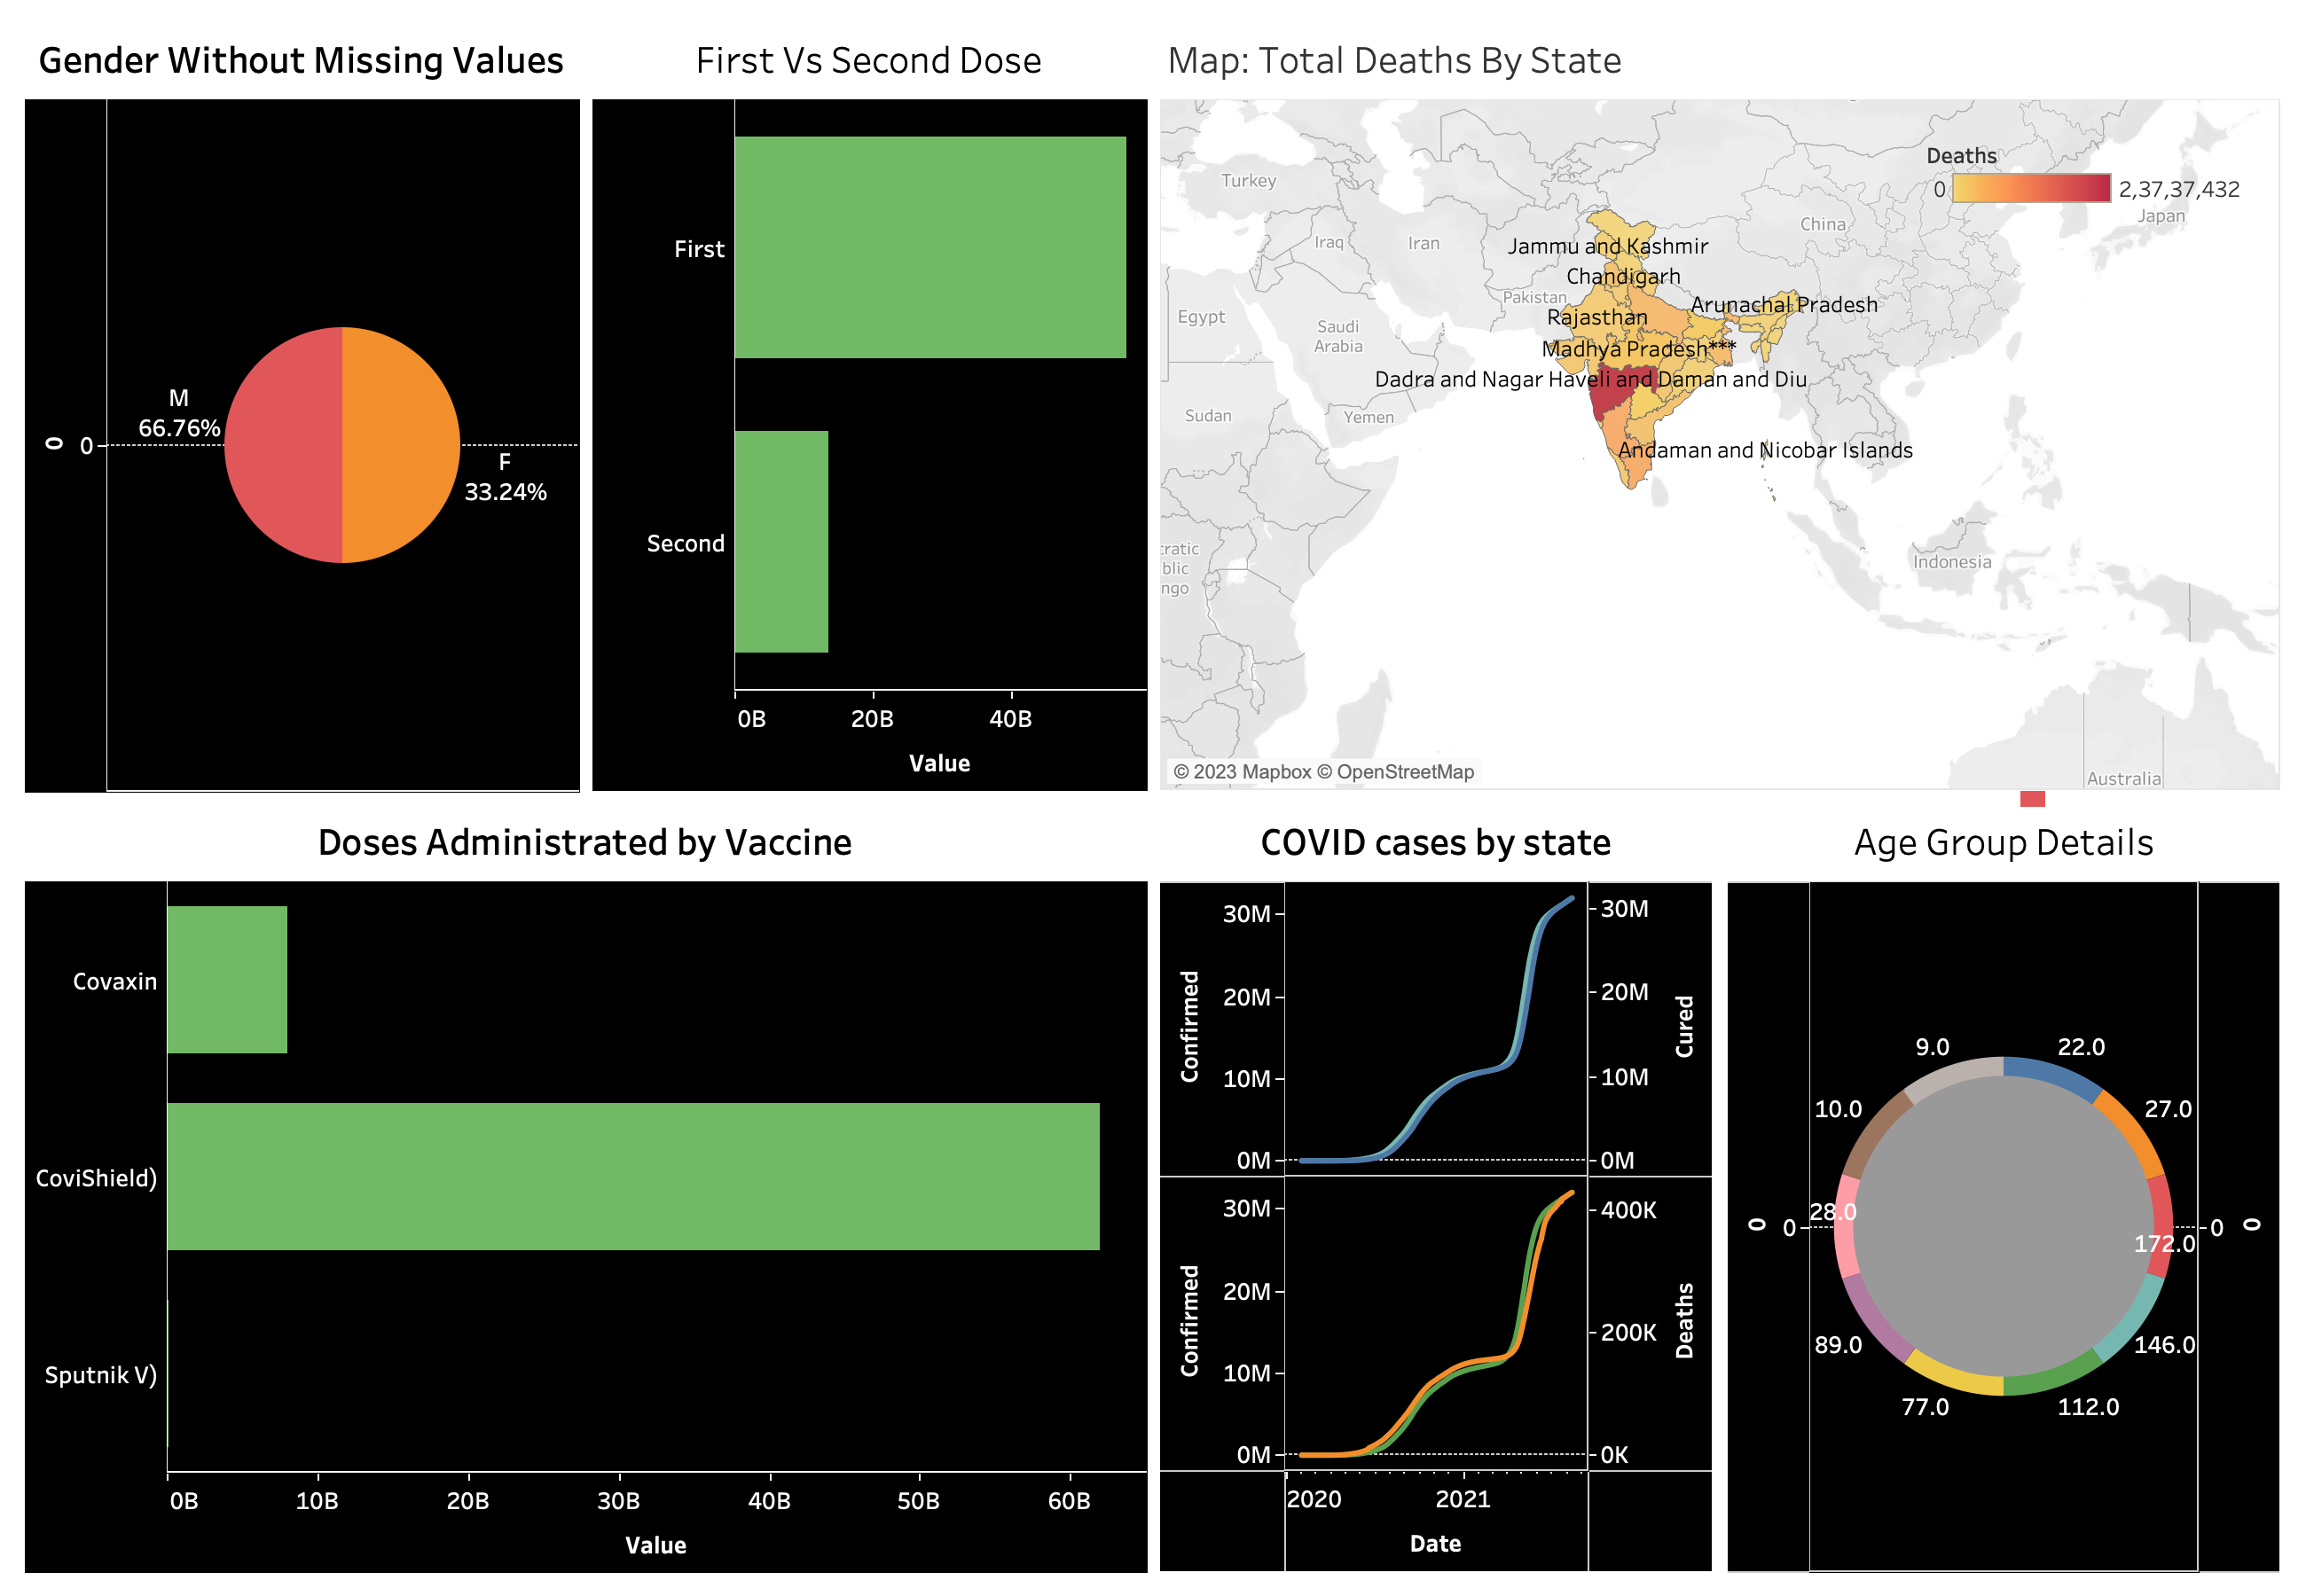

The dashboard page shown, as its layout file describes it:
{"tool":"tableau","page":{"name":"Dashboard 1","canvas":[1300,900],"ordinal":0},"visuals":[{"type":"filter","title":"COVID cases by state","param":"[federated.1y2sy4d1beabyy1cqnm6b1rsiau7].[none:State/UnionTerritory:nk]","box":[1132,8,160,53]},{"type":"worksheet","title":"Gender Without Missing Values","mark":"Pie","rows":["Calculation_780811629521625093"],"box":[10.4,9,319.8,441]},{"type":"worksheet","title":"First Vs Second Dose","mark":"Automatic","box":[330.2,9,319.8,441]},{"type":"worksheet","title":"Map: Total Deaths By State","mark":"Automatic","box":[650,9,639.6,441]},{"type":"legend","title":"COVID cases by state","param":"[federated.1y2sy4d1beabyy1cqnm6b1rsiau7].[:Measure Names]","box":[1132,61,160,88]},{"type":"legend","title":"Map: Total Deaths By State","param":"[federated.1y2sy4d1beabyy1cqnm6b1rsiau7].[sum:Deaths:qk]","box":[1085.5,75.4,182,85.5]},{"type":"legend","title":"Age Group Details","param":"[federated.1313end162e7n11a5pa2611sy8po].[none:AgeGroup:nk]","box":[1132,149,160,227]},{"type":"legend","title":"Gender Without Missing Values","param":"[federated.01ducnc0gvyhw5183lvd70ag3g81].[none:gender:nk]","box":[1132,376,160,67]},{"type":"worksheet","title":"Doses Administrated by Vaccine","mark":"Automatic","box":[10.4,450,639.6,441]},{"type":"worksheet","title":"COVID cases by state","mark":"Automatic","rows":["Confirmed","Cured","Confirmed","Deaths"],"cols":["Date"],"box":[650,450,319.8,441]},{"type":"worksheet","title":"Age Group Details","mark":"Pie","rows":["Calculation_780811629518979075","Calculation_780811629518979075"],"box":[969.8,450,319.8,441]}]}

Visuals, with their boxes in screenshot pixels (x1, y1, x2, y2), scaled from the page's 1300x900 canvas onto the 2306x1596 screenshot:
"COVID cases by state" filter: left=2008, top=14, right=2292, bottom=108
"Gender Without Missing Values" worksheet (Pie marks): left=19, top=16, right=585, bottom=798
"First Vs Second Dose" worksheet: left=585, top=16, right=1153, bottom=798
"Map: Total Deaths By State" worksheet: left=1153, top=16, right=2287, bottom=798
"COVID cases by state" legend: left=2008, top=108, right=2292, bottom=264
"Map: Total Deaths By State" legend: left=1926, top=134, right=2248, bottom=286
"Age Group Details" legend: left=2008, top=264, right=2292, bottom=667
"Gender Without Missing Values" legend: left=2008, top=667, right=2292, bottom=786
"Doses Administrated by Vaccine" worksheet: left=19, top=798, right=1153, bottom=1580
"COVID cases by state" worksheet: left=1153, top=798, right=1721, bottom=1580
"Age Group Details" worksheet (Pie marks): left=1721, top=798, right=2287, bottom=1580
